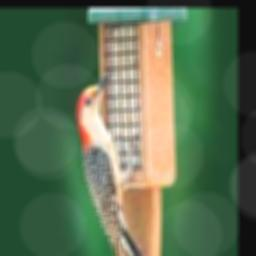Woodpecker: (76, 70, 148, 256)
